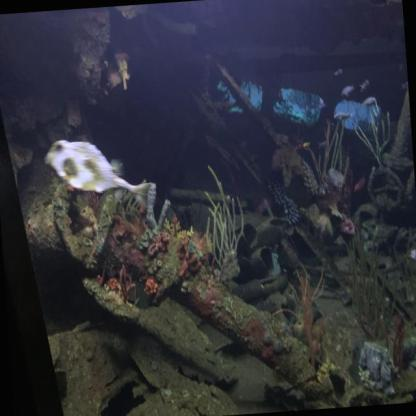fish: (41, 131, 158, 222), (333, 110, 353, 122), (341, 83, 356, 98), (361, 96, 377, 109), (359, 78, 372, 92), (333, 68, 344, 76)
